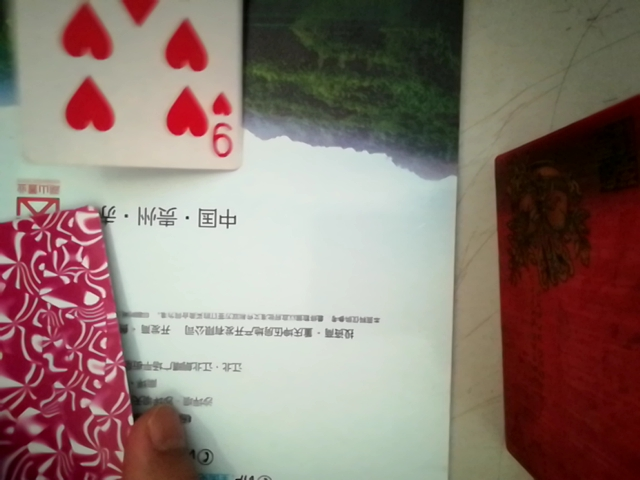hx 9: (9, 0, 248, 180)
